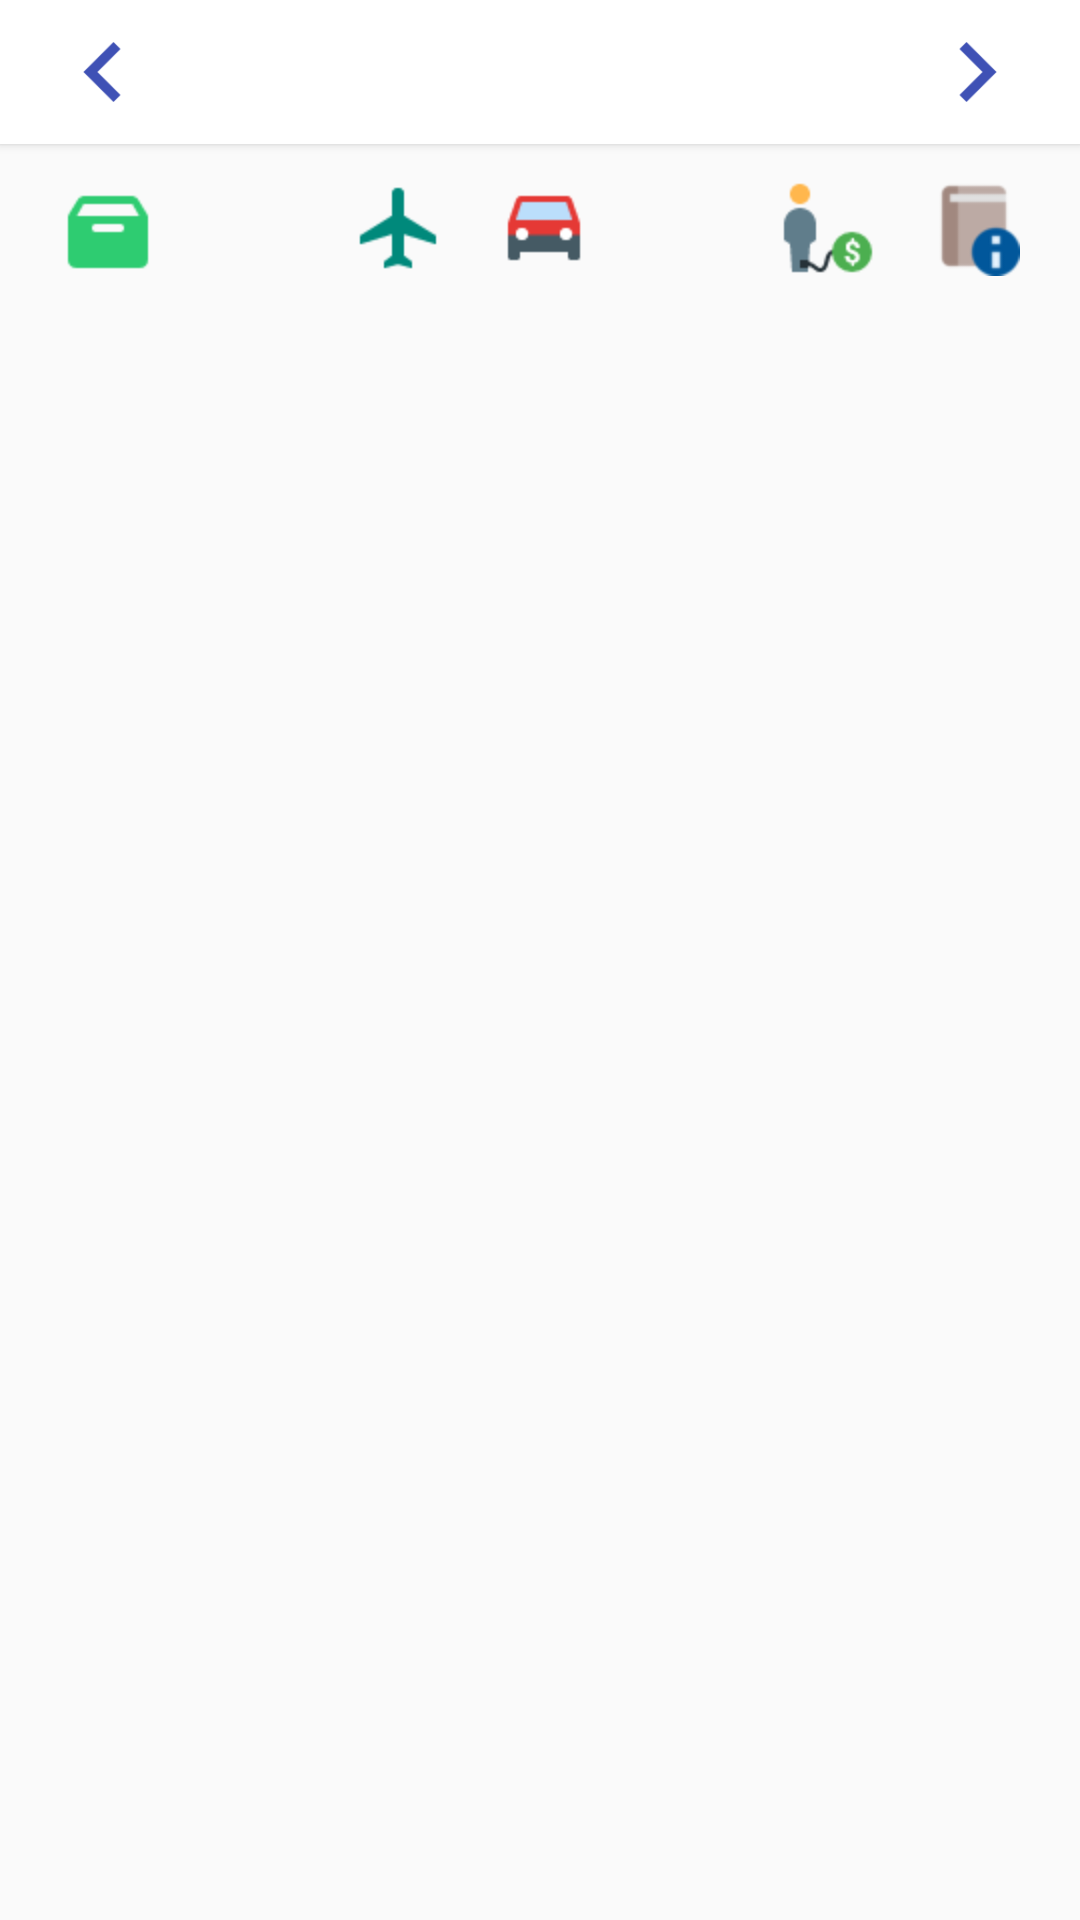

Named icons in this screenshot (1080x1920) and their centers, (x=x, y=y):
all: (x=108, y=232)
debt: (x=828, y=228)
left: (x=102, y=72)
leisure: (x=398, y=228)
others: (x=980, y=230)
right: (x=978, y=72)
transportation: (x=544, y=228)
